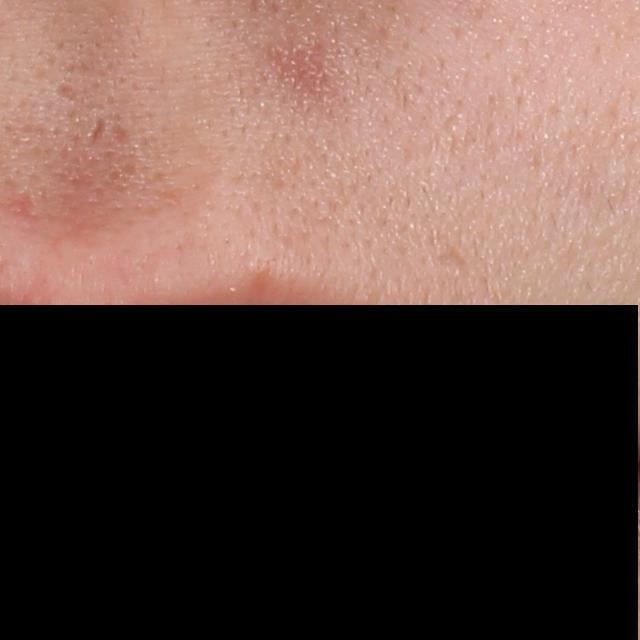atrophic_scar: (91, 118, 106, 141)
